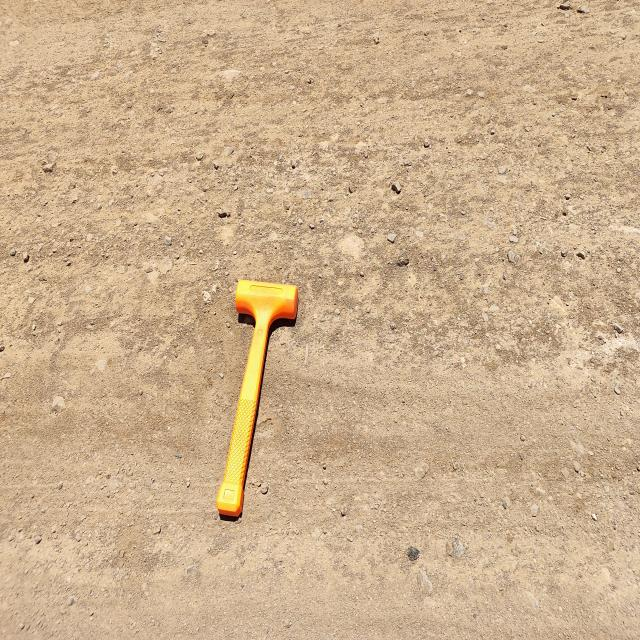Orange_hammer: (215, 278, 299, 521)
